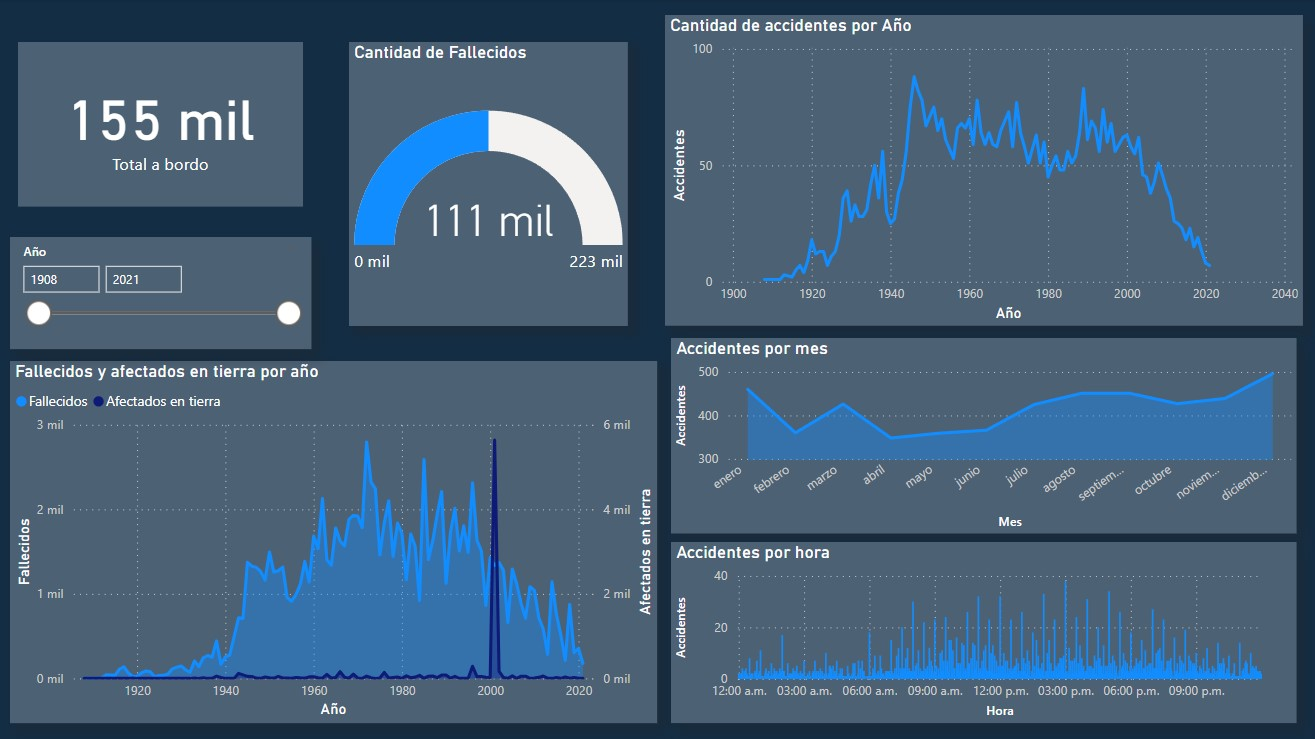

What the dashboard file says about the page in this screenshot:
{"tool":"powerbi","page":{"name":"General","canvas":[1280,720],"ordinal":1},"visuals":[{"type":"areaChart","title":"Fallecidos y afectados en tierra por año","fields":{"Category":["accidente_limpio2.Fecha.Variación.Jerarquía de fechas.Año"],"Y":["Sum(accidente_limpio2.Fallecidos)"],"Y2":["Sum(accidente_limpio2.Afectados en tierra)"]},"box":[11.7,351.8,628.8,351.8],"z":0},{"type":"slicer","fields":{"Values":["accidente_limpio2.Año"]},"box":[11.7,231.3,292.5,108.9],"z":1000},{"type":"card","fields":{"Values":["Sum(accidente_limpio2.Todos a bordo)"]},"box":[19.4,41.8,277,160.4],"z":2000},{"type":"gauge","fields":{"Y":["Sum(accidente_limpio2.Fallecidos)"]},"box":[341.1,41.8,271.2,276],"z":3000},{"type":"lineChart","title":"Cantidad de accidentes por Año","fields":{"Category":["accidente_limpio2.Año"],"Y":["accidente_limpio2.Conteo de Accidentes por Ruta"]},"box":[648.3,15.6,620.1,302.3],"z":4000},{"type":"stackedAreaChart","title":"Accidentes por mes ","fields":{"Category":["accidente_limpio2.Fecha.Variación.Jerarquía de fechas.Mes"],"Y":["accidente_limpio2.Conteo de Accidentes por Ruta"]},"box":[654.1,329.5,608.4,190.5],"z":5000},{"type":"lineStackedColumnComboChart","title":" Accidentes por hora","fields":{"Category":["accidente_limpio2.Hora"],"Y":["accidente_limpio2.Conteo de Accidentes por Ruta"]},"box":[654.1,527.7,608.4,175.9],"z":6000}]}

Visuals, with their boxes in screenshot pixels (x1, y1, x2, y2), scaled from the page's 1280x720 canvas onto the 1315x739 screenshot:
"Fallecidos y afectados en tierra por año" areaChart: 12,361,658,722
slicer - accidente_limpio2.Año: 12,237,313,349
card - Sum(accidente_limpio2.Todos a bordo): 20,43,305,208
gauge - Sum(accidente_limpio2.Fallecidos): 350,43,629,326
"Cantidad de accidentes por Año" lineChart: 666,16,1303,326
"Accidentes por mes " stackedAreaChart: 672,338,1297,534
" Accidentes por hora" lineStackedColumnComboChart: 672,542,1297,722
